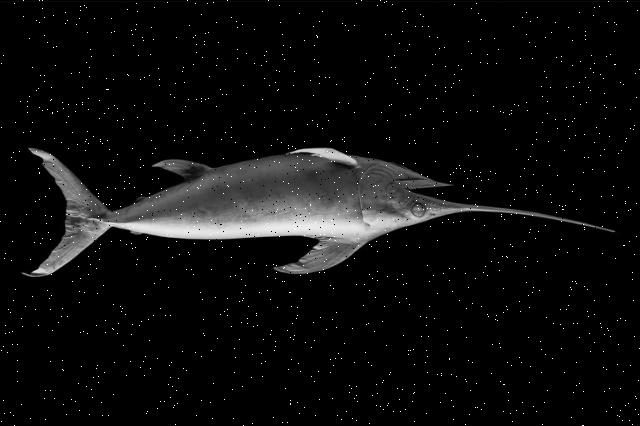Mulut: (381, 144, 625, 256)
Sirip Anal: (117, 182, 153, 242)
Sirip Dada: (284, 123, 368, 183)
Sirip Ekor: (8, 134, 108, 288)
Sirip Perut: (146, 146, 228, 190)
Sirip Punggung: (267, 220, 367, 296)
